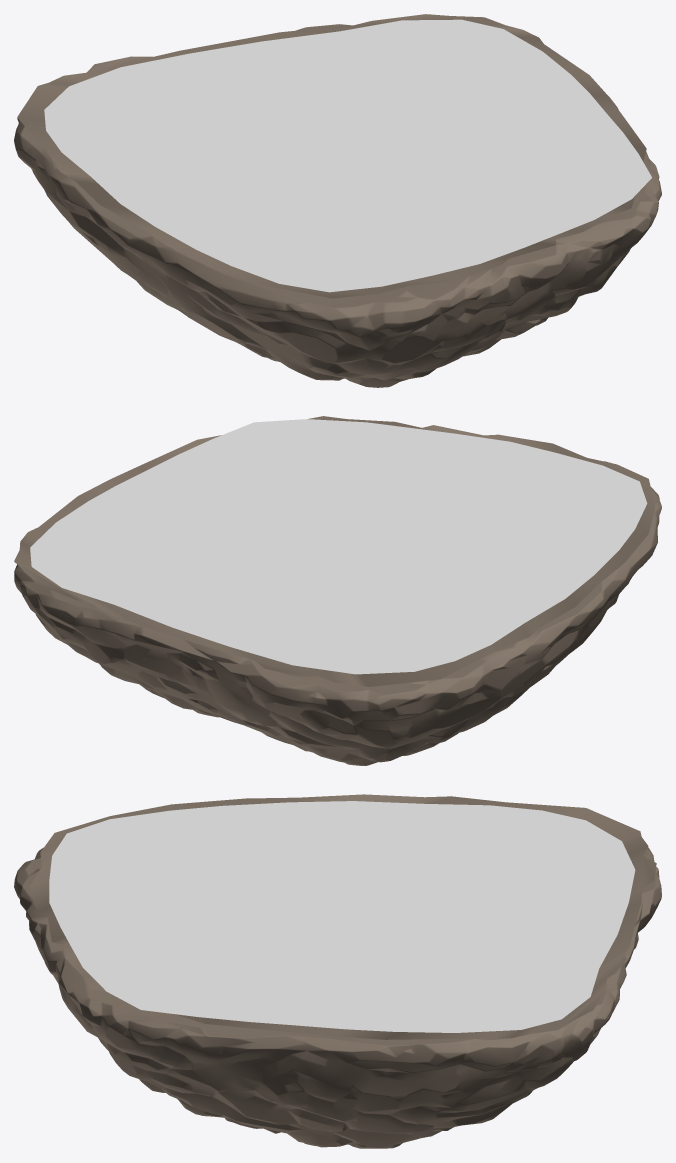
Rendered from IlhaG1.fbx.
The picture shows the model from 3 angles, top to bottom: view 1: azimuth 30°, elevation 25°; view 2: azimuth 150°, elevation 25°; view 3: azimuth 270°, elevation 25°; orthographic projection. The views are drawn at different scales.
Parts seen in each view (by area): view 1: IlhaG1Grama, IlhaG1, IlhaG1Colisor; view 2: IlhaG1Grama, IlhaG1, IlhaG1Colisor; view 3: IlhaG1Grama, IlhaG1, IlhaG1Colisor.
Boxes of the visible parts, bbox=[...] form: IlhaG1Grama: bbox=[44, 19, 651, 292]; IlhaG1: bbox=[14, 96, 661, 387]; IlhaG1Colisor: bbox=[17, 14, 646, 298]; IlhaG1Grama: bbox=[30, 419, 647, 674]; IlhaG1: bbox=[14, 461, 661, 765]; IlhaG1Colisor: bbox=[14, 416, 655, 686]; IlhaG1Grama: bbox=[49, 801, 635, 1032]; IlhaG1: bbox=[14, 847, 661, 1148]; IlhaG1Colisor: bbox=[29, 794, 656, 1039].
Size of the model in its own units: 5640 by 2127 by 6183.
